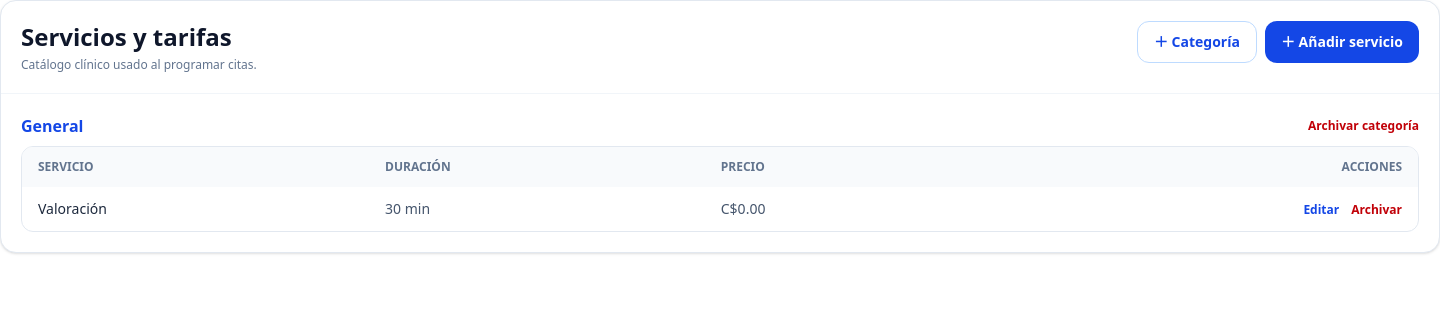
Test: keeps an archive failure visible and the service available
The width and height of the screenshot is (1440, 335).
Step 1. Click the button "Archivar" → (1377, 210), box x1=1351 y1=202 x2=1402 y2=218
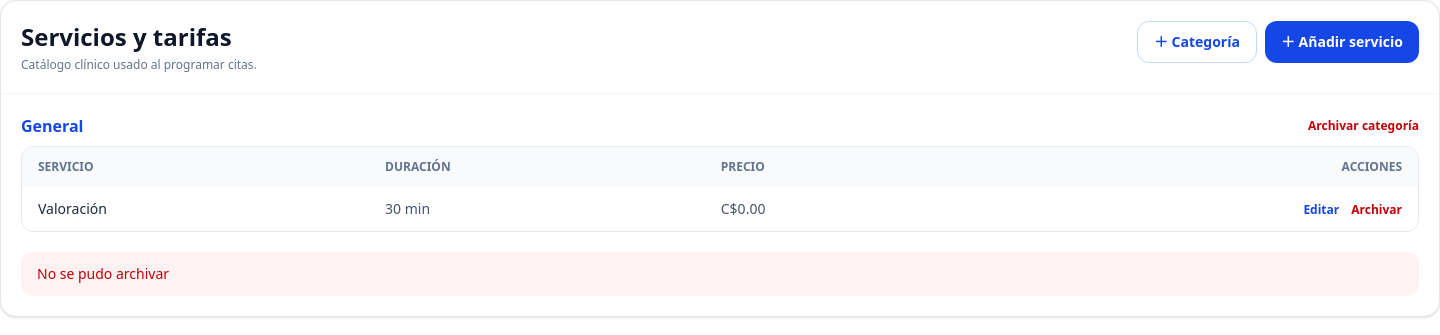
Expected: the text "Valoración" is shown, x1=22 y1=187 x2=369 y2=231
Expected: the text "No se pudo archivar" is shown, x1=21 y1=252 x2=1419 y2=296
